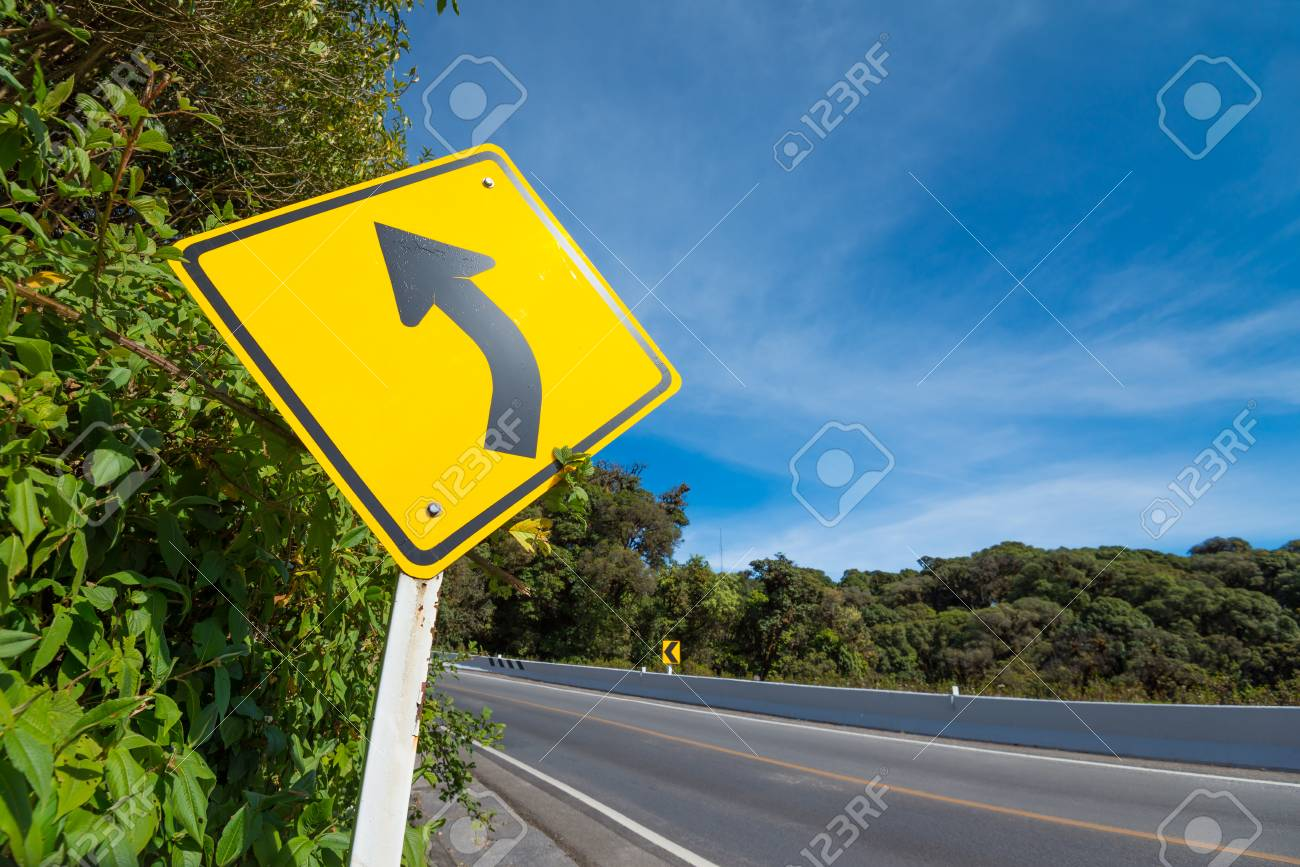left: (164, 138, 691, 586)
